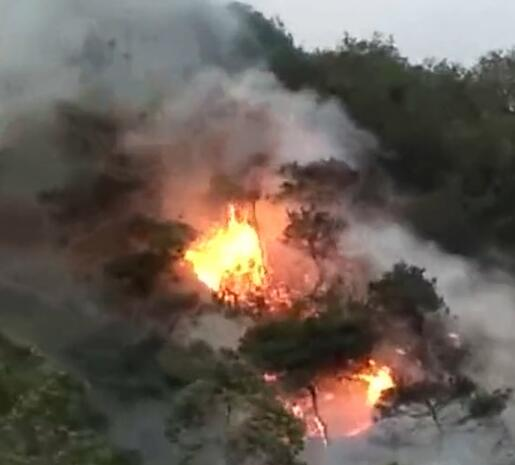fire: (178, 200, 293, 312), (258, 357, 395, 442)
yanwu: (0, 1, 512, 463)
